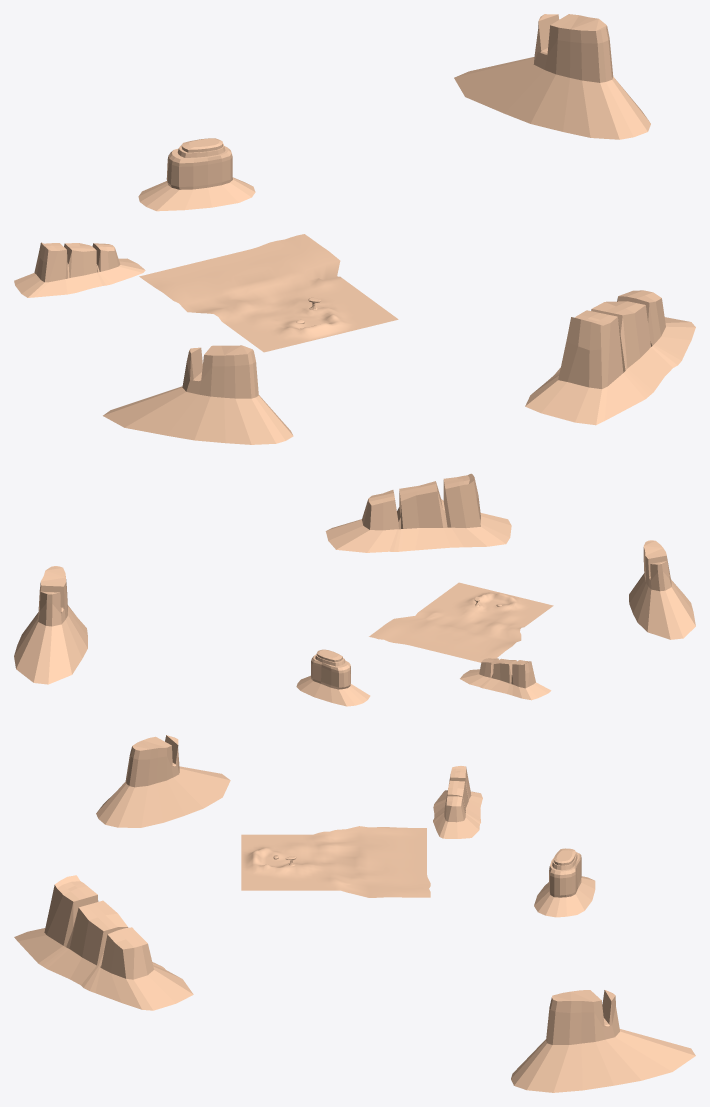
The model's file is environment1_2.gltf.
3 renders of one model, top to bottom at view 1: azimuth 30°, elevation 25°; view 2: azimuth 150°, elevation 25°; view 3: azimuth 270°, elevation 25°, orthographic. The views are drawn at different scales.
Parts seen in each view (by area): view 1: Grid, Mesa_1, Mesa_3.001, Mesa_1.001, Mesa_2, Mesa_3; view 2: Mesa_3.001, Grid, Mesa_1, Mesa_1.001, Mesa_2, Mesa_3; view 3: Grid, Mesa_3.001, Mesa_1, Mesa_1.001, Mesa_2, Mesa_3.
Boxes of the visible parts, x1,y1,x2,y2 form: Grid: (139, 234, 398, 352); Mesa_1: (454, 14, 650, 139); Mesa_3.001: (525, 290, 695, 425); Mesa_1.001: (103, 345, 293, 444); Mesa_2: (138, 138, 255, 211); Mesa_3: (14, 242, 145, 297); Mesa_3.001: (325, 473, 511, 552); Grid: (369, 582, 553, 662); Mesa_1: (14, 566, 87, 684); Mesa_1.001: (629, 540, 695, 639); Mesa_2: (296, 649, 370, 706); Mesa_3: (460, 658, 551, 700); Grid: (241, 826, 430, 897); Mesa_3.001: (14, 875, 193, 1010); Mesa_1: (511, 990, 695, 1092); Mesa_1.001: (96, 735, 230, 827); Mesa_2: (534, 848, 595, 917); Mesa_3: (433, 766, 482, 838).
Size of what is drawn, in the model's own units: 272 by 33.45 by 257.
